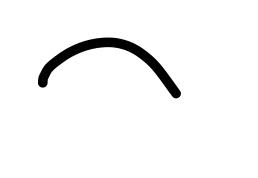n: (30, 27, 194, 120)
